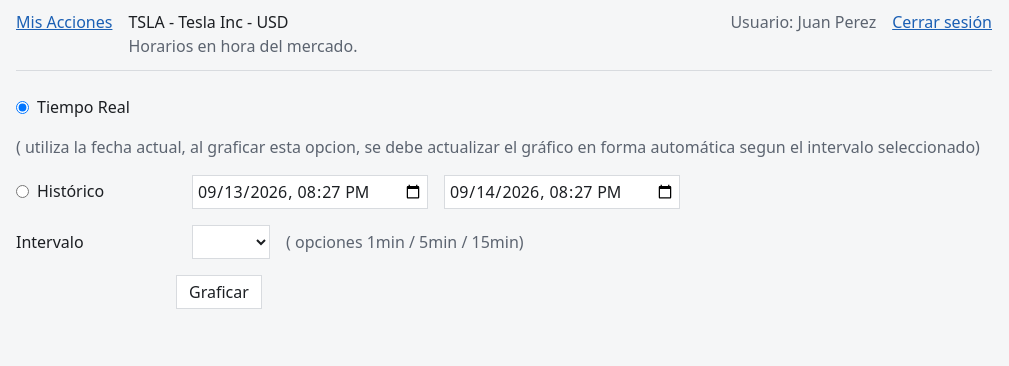
Scenario: Graficar with no interval chosen › asks our API for nothing, so the provider is never reached
What coordinates should you click on to do the following:
click the button "Graficar"
I would click on:
 (219, 292)
Its box is [176,275,262,309].
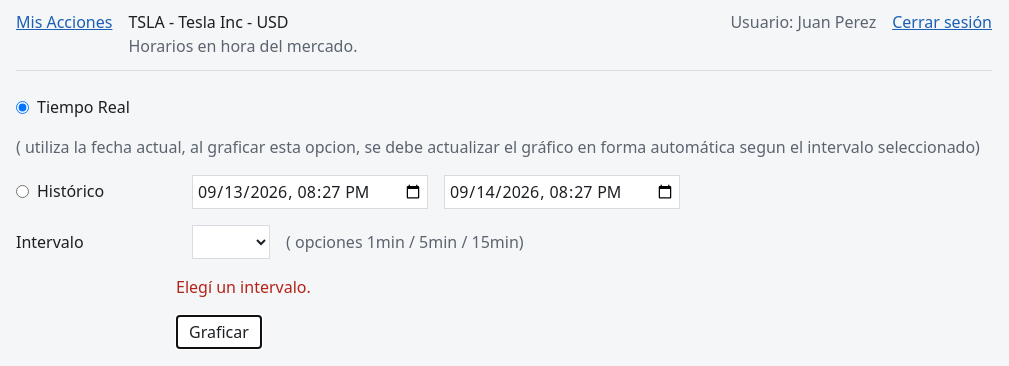
Check: the text "Elegí un intervalo." is shown, box [176,276,311,298]
